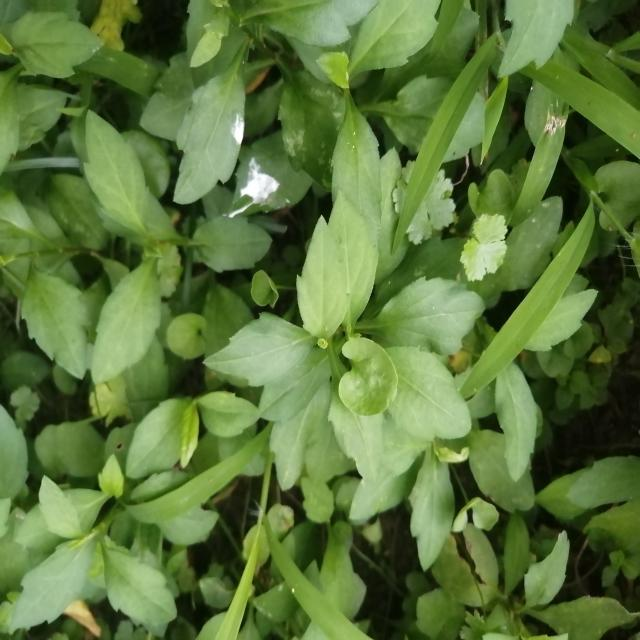Indian aster: (247, 203, 478, 502), (62, 116, 224, 383), (3, 442, 202, 629)
